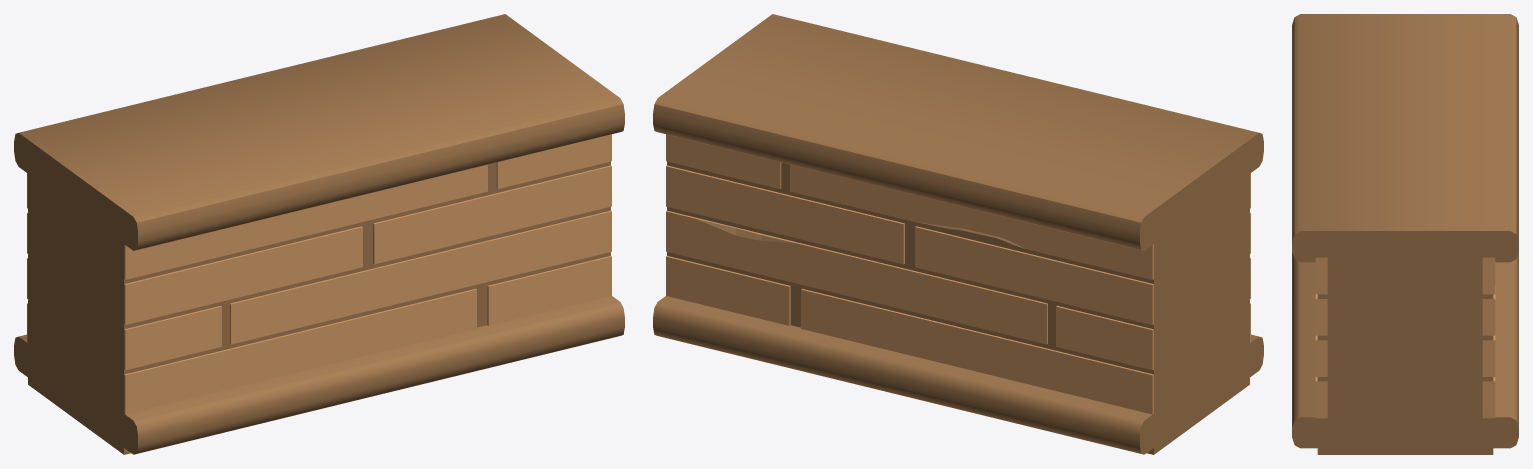
The model's file is Environment_Counter_Straight.fbx.
3 views of the same model, side by side, from view 1: azimuth 30°, elevation 25°; view 2: azimuth 150°, elevation 25°; view 3: azimuth 270°, elevation 25° (orthographic). The views are drawn at different scales.
Visible parts, largest first — view 1: Environment_Counter_Straight; view 2: Environment_Counter_Straight; view 3: Environment_Counter_Straight.
Boxes of the visible parts, left/top/right/bottom form: Environment_Counter_Straight: left=14, top=14, right=624, bottom=454; Environment_Counter_Straight: left=653, top=14, right=1263, bottom=454; Environment_Counter_Straight: left=1292, top=14, right=1518, bottom=454.
Size of the model in its own units: 400 by 192 by 177.
